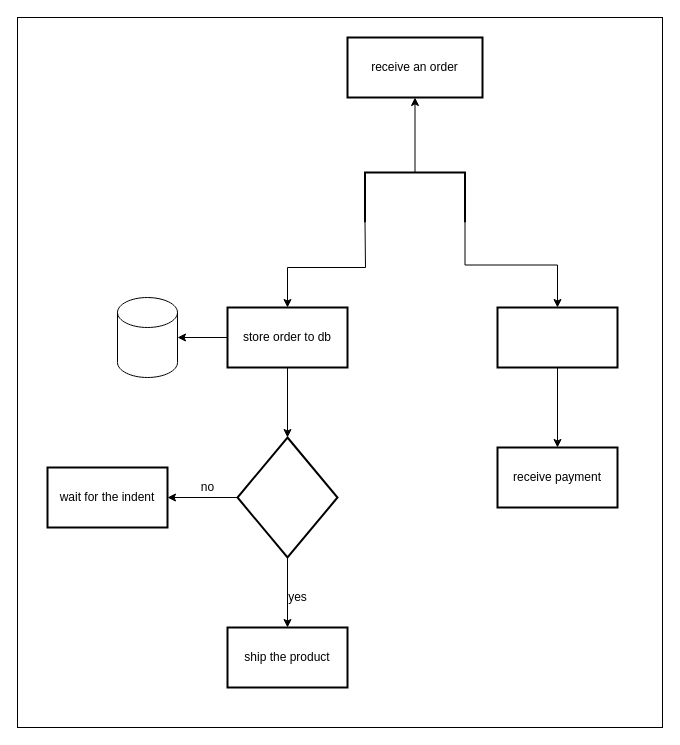
Some shapes in this 680 by 745 pixel diagram are drawn without their labels. The box of each missing label's shape, as (x1, y1, x2, y2) in pixels:
is the product ready: (236, 436, 338, 558)
send invoice to buyer: (496, 306, 618, 368)
